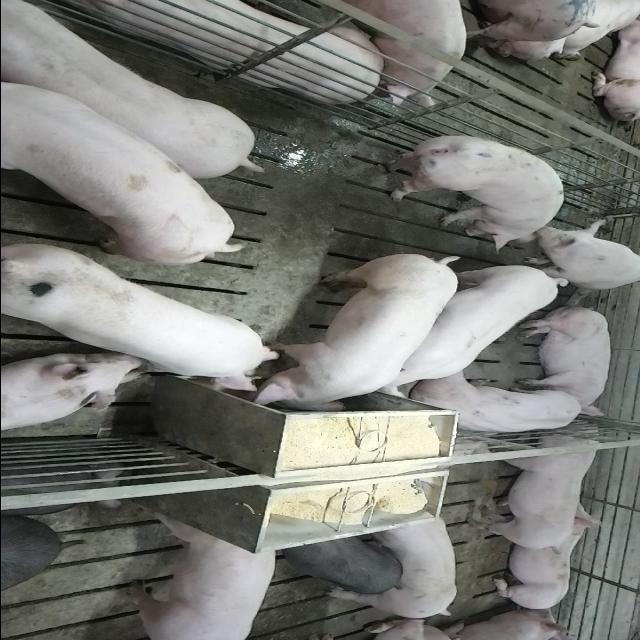Feeding: (6, 243, 284, 399), (240, 256, 468, 419)
Lateral_lying: (20, 0, 388, 101), (512, 304, 612, 417)
Sitting: (520, 222, 640, 292)
Standing: (0, 76, 248, 266), (0, 0, 260, 176), (356, 261, 567, 396), (361, 130, 563, 248), (118, 508, 276, 638), (460, 422, 600, 552), (334, 0, 466, 107), (356, 509, 458, 618), (277, 535, 403, 597)
Sternal_lying: (486, 508, 608, 610), (408, 374, 588, 438), (0, 356, 144, 434)
